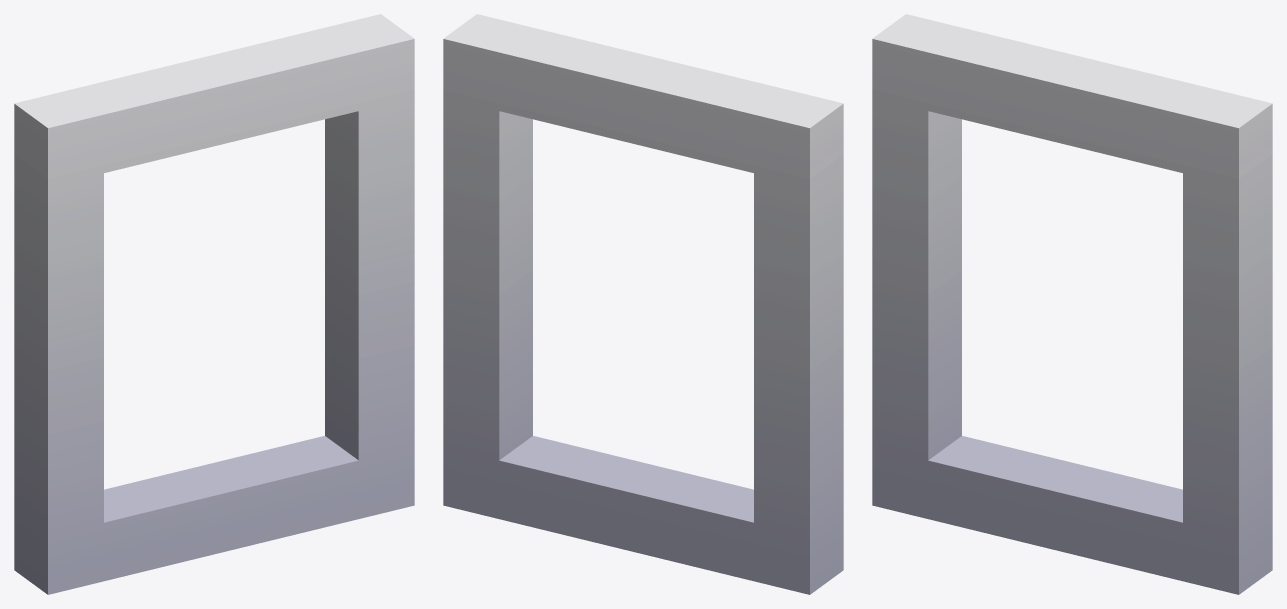
File: fonster.glb
The picture shows the model from 3 angles, left to right: view 1: azimuth 30°, elevation 25°; view 2: azimuth 150°, elevation 25°; view 3: azimuth 330°, elevation 25°; orthographic projection.
Visible parts, largest first — view 1: window-white; view 2: window-white; view 3: window-white.
Part boxes in pixels (bbox=[...]): window-white: bbox=[14, 14, 414, 594]; window-white: bbox=[443, 14, 843, 594]; window-white: bbox=[872, 14, 1272, 594].
Bounding box in the file's own units: 0.3125 × 0.38 × 0.05.
1 material, 1 textured.
